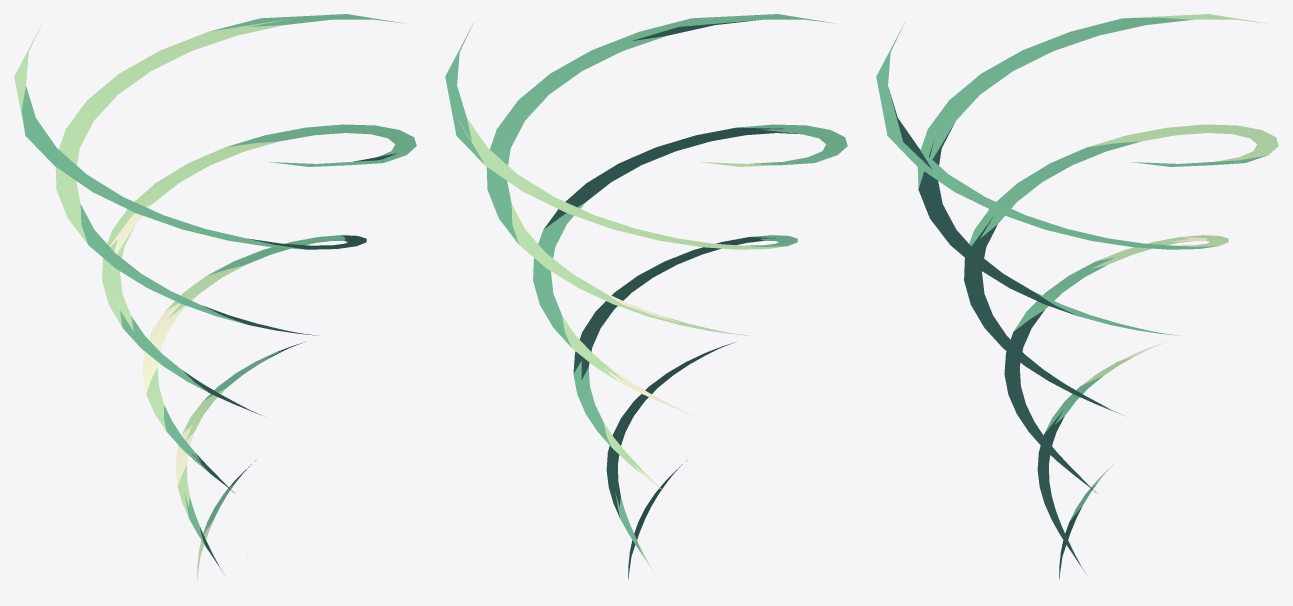
File: wind_funnel.glb
3 views of the same model, side by side, from view 1: azimuth 30°, elevation 25°; view 2: azimuth 150°, elevation 25°; view 3: azimuth 270°, elevation 25° (orthographic).
Visible parts, largest first — view 1: wind_funnel; view 2: wind_funnel; view 3: wind_funnel.
Part boxes in pixels (x1,y1,x2,y2): wind_funnel: (14, 14, 416, 579); wind_funnel: (445, 14, 847, 579); wind_funnel: (876, 14, 1278, 579).
Bounding box in the file's own units: 2.38 × 3.25 × 2.3.
